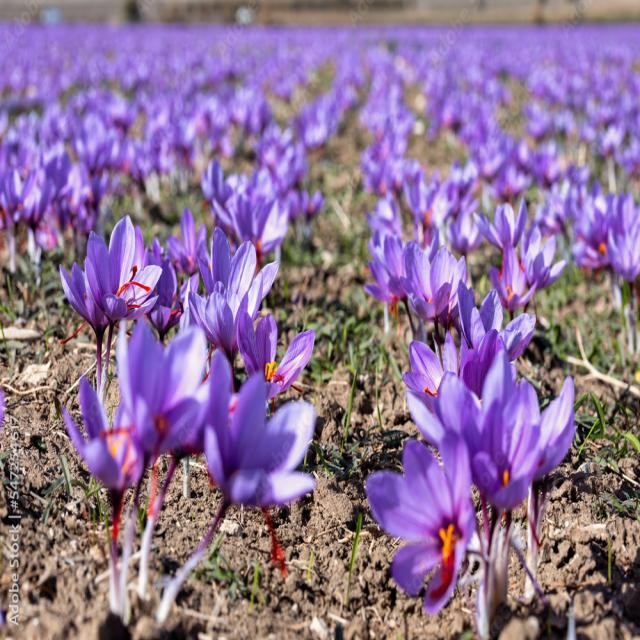saffron open: (156, 352, 315, 622), (366, 435, 475, 615), (85, 216, 161, 394), (238, 313, 315, 399), (60, 262, 109, 392), (189, 290, 248, 365), (490, 244, 536, 320), (146, 259, 182, 341), (521, 225, 566, 289), (474, 199, 528, 251), (168, 208, 209, 275)
